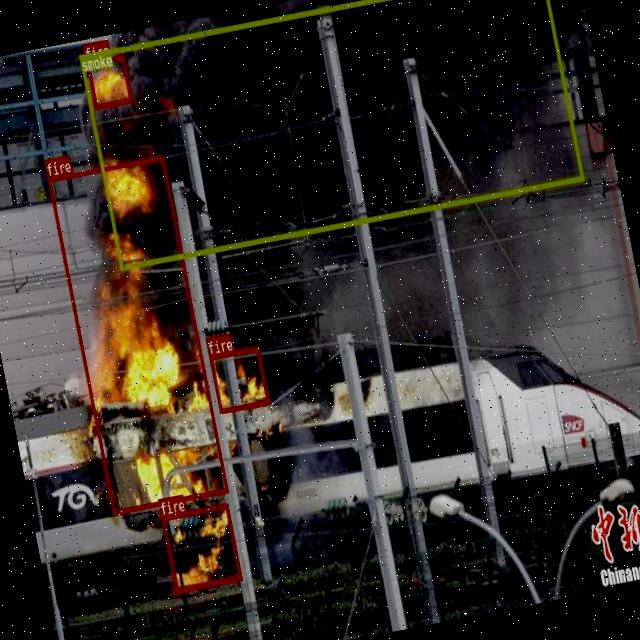fire: (48, 154, 228, 514), (160, 502, 242, 592), (208, 345, 270, 413), (86, 54, 132, 109)
smoke: (79, 0, 584, 270)
